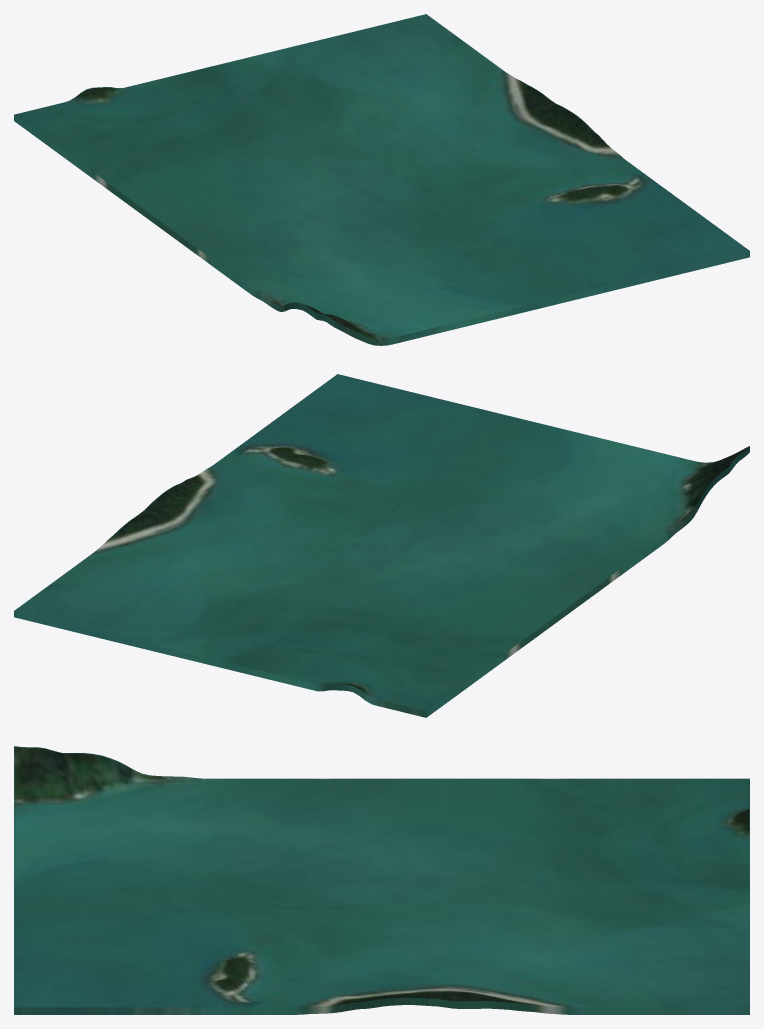
3 views of the same model, one above another, from view 1: azimuth 30°, elevation 25°; view 2: azimuth 150°, elevation 25°; view 3: azimuth 270°, elevation 25° (orthographic). The views are drawn at different scales.
Visible parts, largest first — view 1: tile; view 2: tile; view 3: tile.
Part boxes in pixels (x1=…): tile: x1=14, y1=14, x2=749, y2=345; tile: x1=14, y1=374, x2=749, y2=717; tile: x1=14, y1=746, x2=749, y2=1014.
Bounding box in the file's own units: 2025 × 165 × 2752.
1 material, 1 textured.
